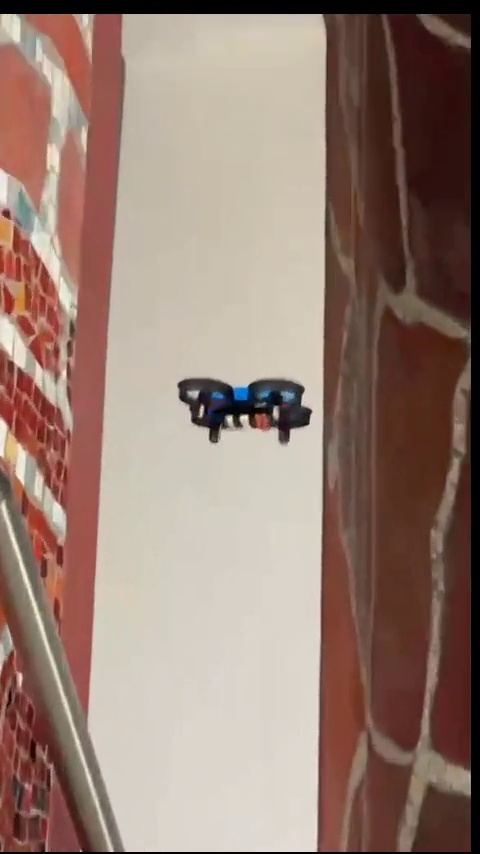drone: (175, 378, 314, 440)
